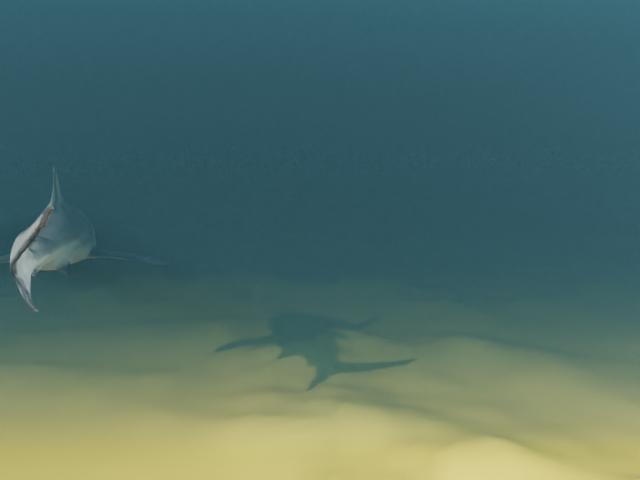Carribean Shark.001: (0, 165, 165, 312)
